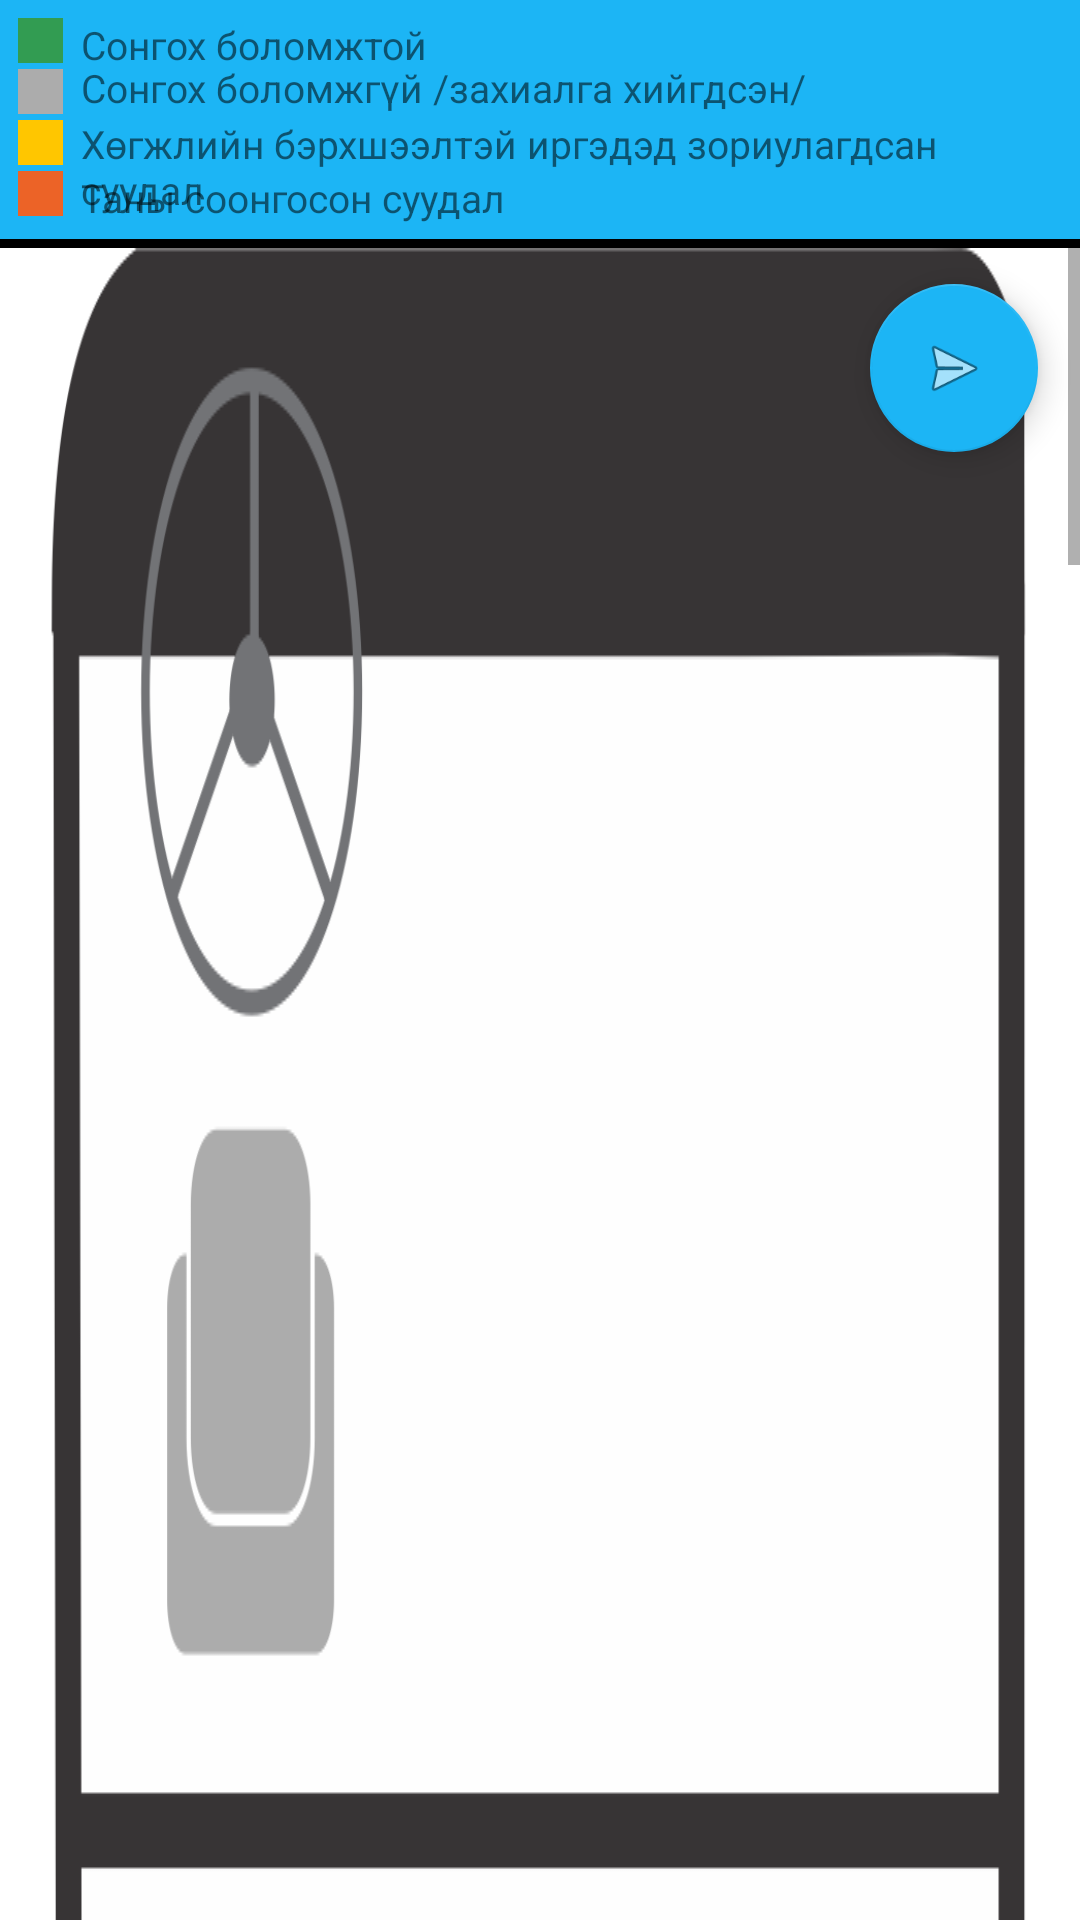

Icons on this 1080px x 1920px Android screen, each with its box as (x1, y1, x2, y2):
send: (870, 284, 1038, 452)
